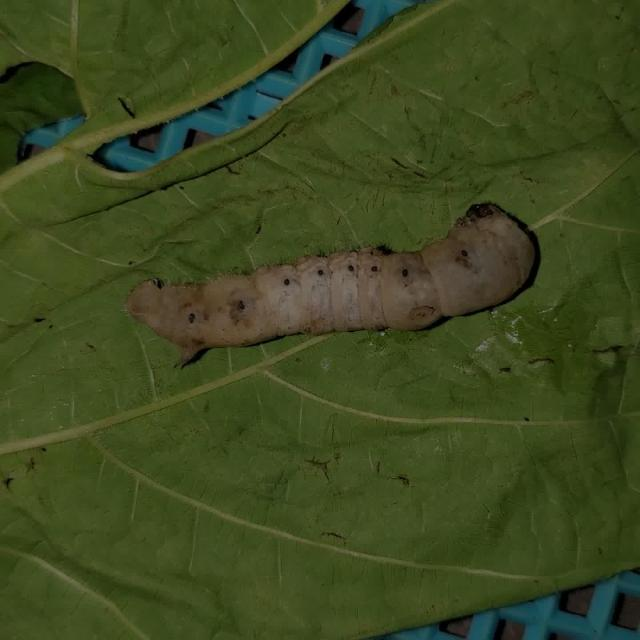Grasserie: (125, 190, 542, 367)
